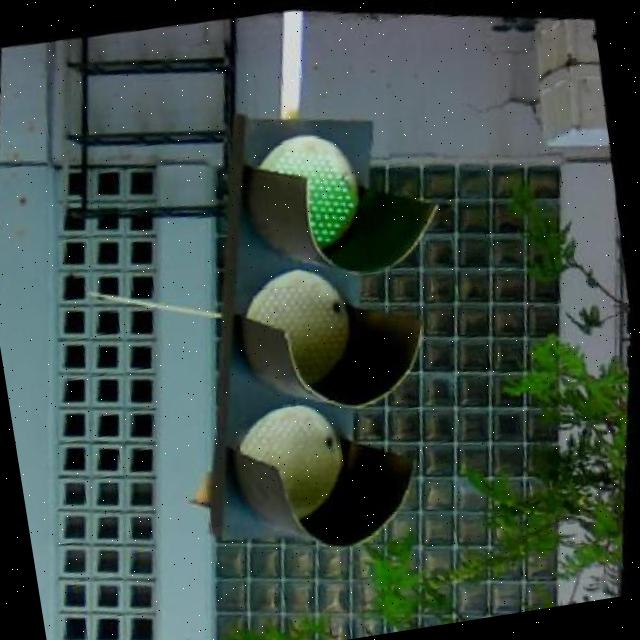green_light: (141, 76, 507, 580)
